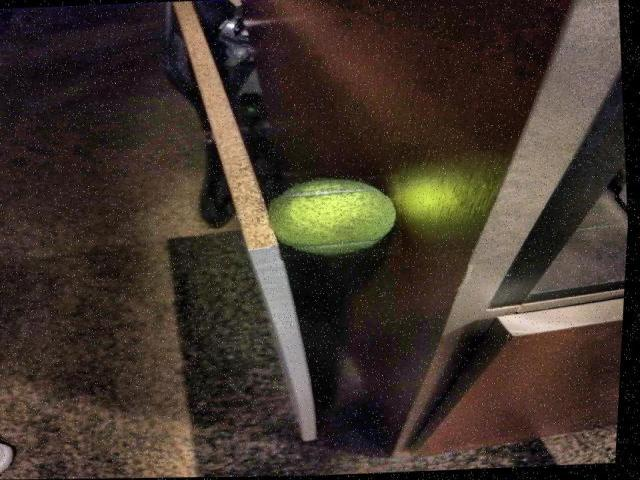tennis-ball: (266, 176, 395, 256)
